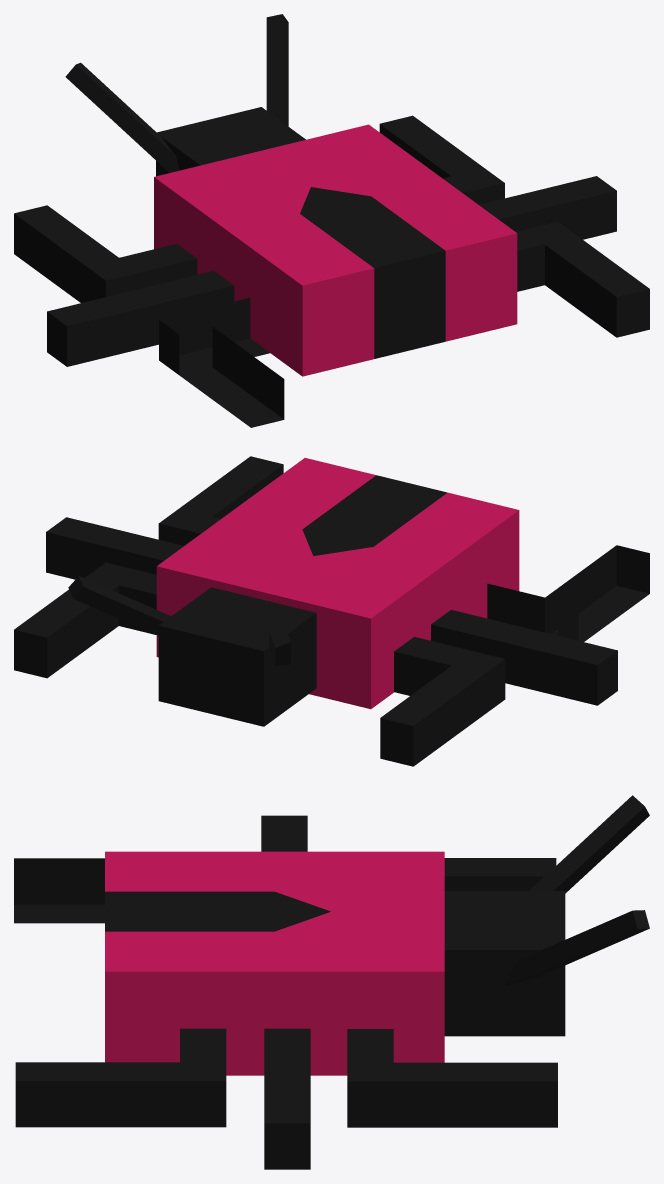
File: bug.fbx
3 views of the same model, one above another, from view 1: azimuth 30°, elevation 25°; view 2: azimuth 150°, elevation 25°; view 3: azimuth 270°, elevation 25° (orthographic). The views are drawn at different scales.
Visible parts, largest first — view 1: Cube; view 2: Cube; view 3: Cube.
Part boxes in pixels (left/top/right/bottom): Cube: left=14, top=14, right=649, bottom=427; Cube: left=14, top=456, right=649, bottom=766; Cube: left=14, top=795, right=649, bottom=1169.
Bounding box in the file's own units: 515 × 127 × 450.
